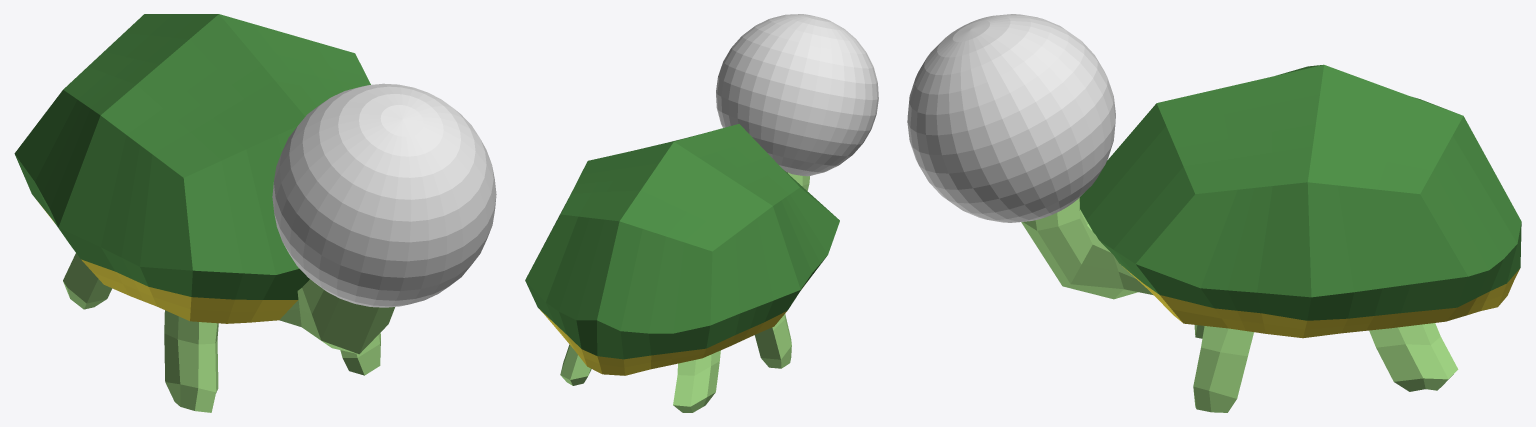
Rendered from Færdig skildpadde i blender (med hjelm).fbx.
3 views of the same model, side by side, from view 1: azimuth 30°, elevation 25°; view 2: azimuth 150°, elevation 25°; view 3: azimuth 270°, elevation 25° (orthographic). The views are drawn at different scales.
Visible parts, largest first — view 1: Cube; view 2: Cube; view 3: Cube.
Part boxes in pixels (x1,y1,x2,y2): Cube: (14,14,496,412); Cube: (525,14,878,412); Cube: (907,14,1521,412).
Bounding box in the file's own units: 160 × 171 × 273.
